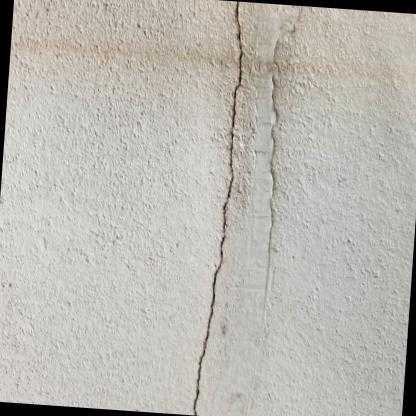crack: (193, 1, 243, 415)
